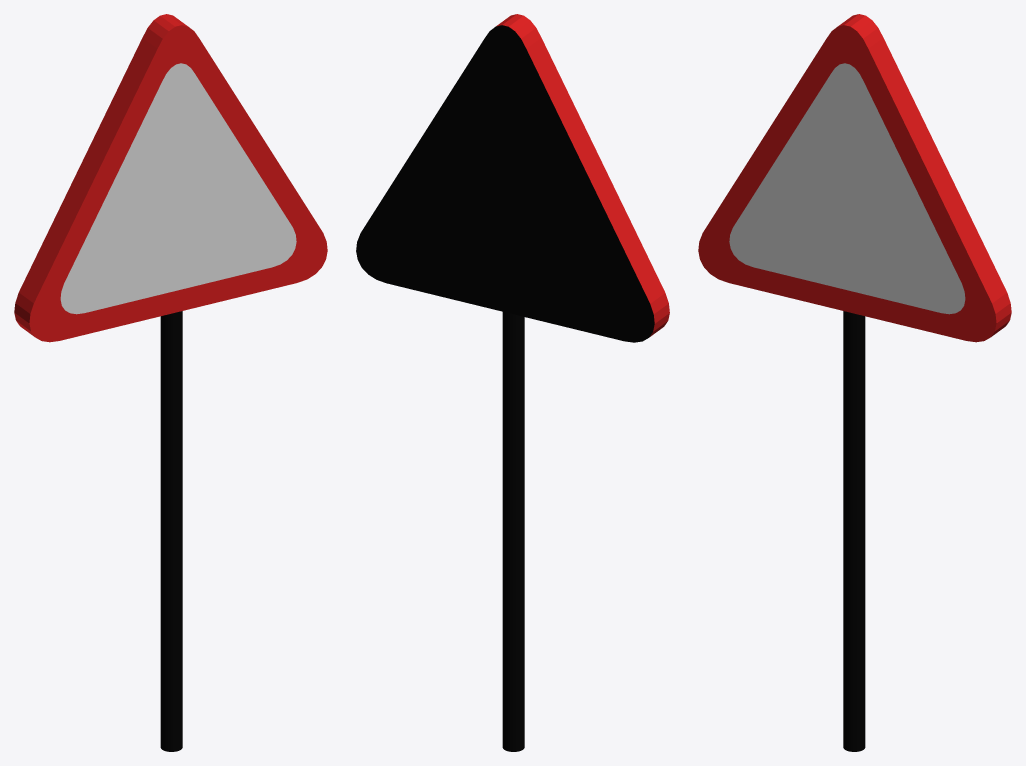
File: pedestrian.fbx
The picture shows the model from 3 angles, left to right: view 1: azimuth 30°, elevation 25°; view 2: azimuth 150°, elevation 25°; view 3: azimuth 330°, elevation 25°; orthographic projection.
Visible parts, largest first — view 1: Cube; view 2: Cube; view 3: Cube.
Part boxes in pixels (bbox=[...]): Cube: bbox=[14, 14, 327, 751]; Cube: bbox=[356, 14, 669, 751]; Cube: bbox=[698, 14, 1011, 751].
Size of the model in its own units: 689 by 1603 by 60.61.
